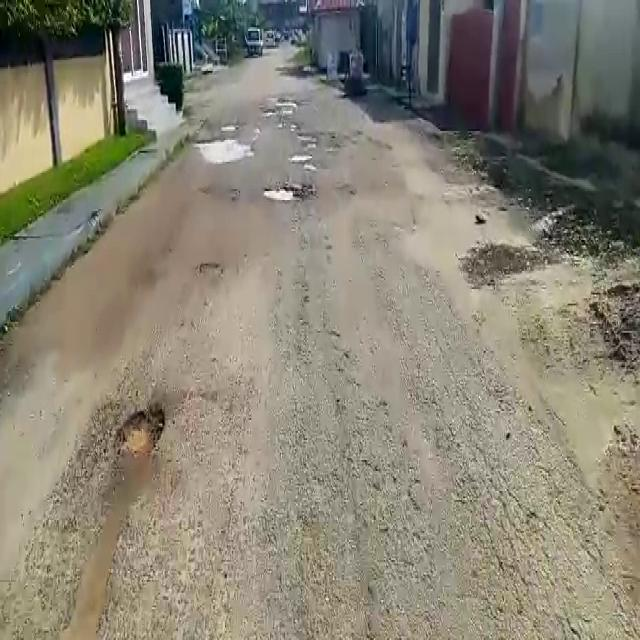Pothole: (587, 272, 640, 388), (117, 401, 161, 454), (198, 134, 252, 162), (260, 180, 309, 202), (288, 156, 311, 168)
